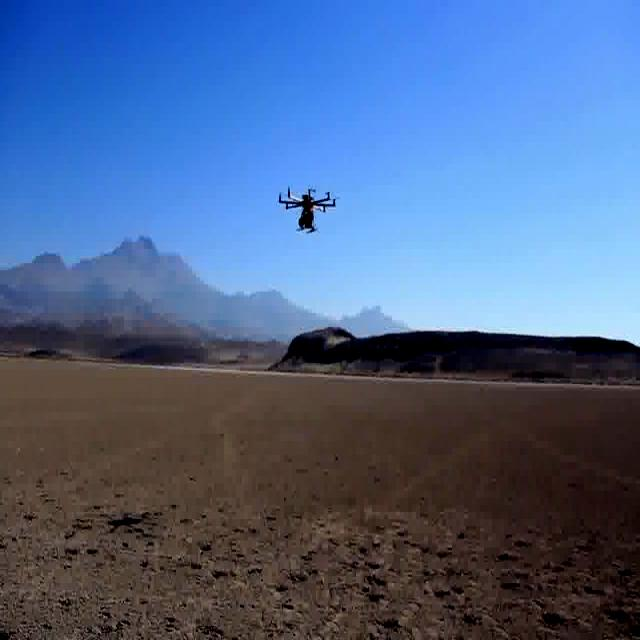drone: (275, 181, 337, 238)
